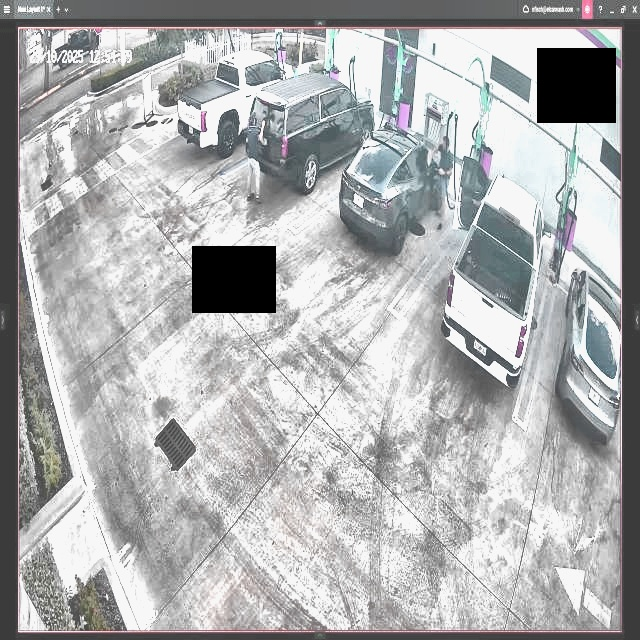Car: (441, 154, 542, 385), (247, 64, 374, 189), (343, 120, 444, 259), (176, 48, 300, 159)
